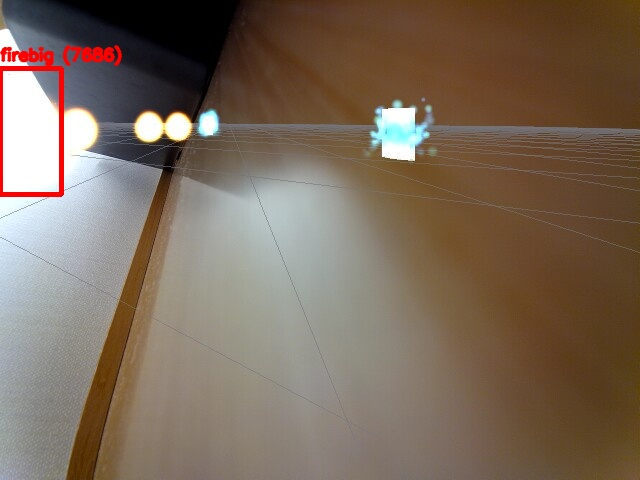firebig: (0, 68, 61, 194)
